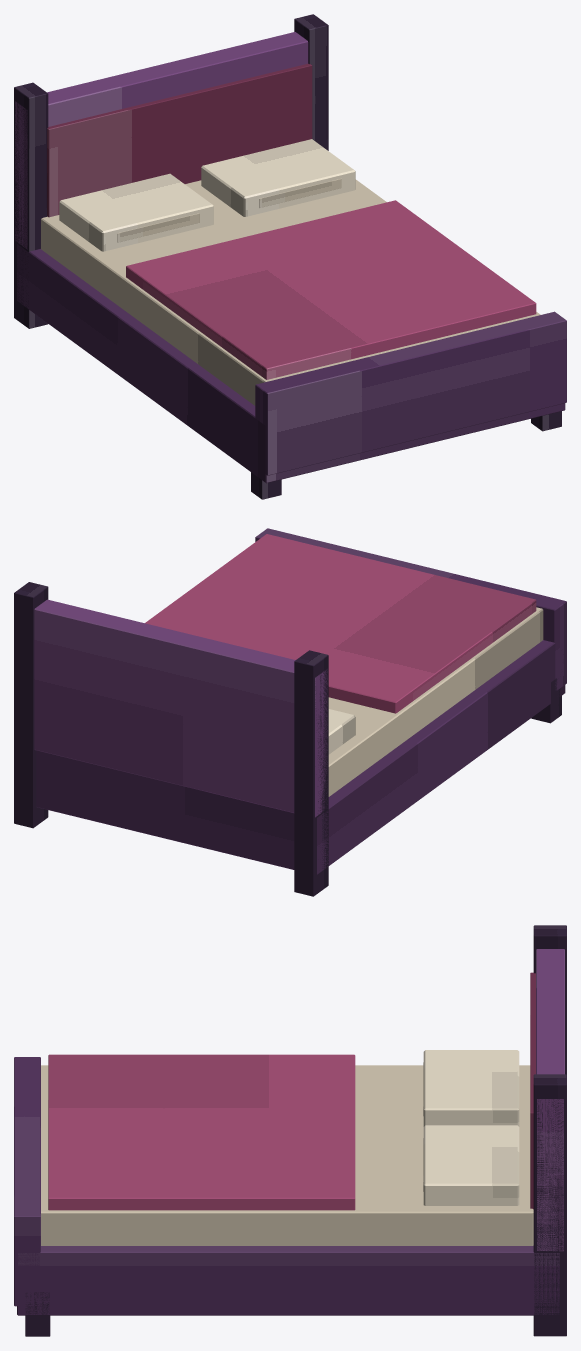
File: double_bed_violet.glb
3 views of the same model, one above another, from view 1: azimuth 30°, elevation 25°; view 2: azimuth 150°, elevation 25°; view 3: azimuth 270°, elevation 25° (orthographic). The views are drawn at different scales.
Parts seen in each view (by area): view 1: Blanket, Footboard, HeadboardInset, BedFrame, Mattress, HeadboardPanel, Pillow_1, Pillow_2, HeadPostL, HeadPostR, PillowBand_1, PillowBand_2; view 2: HeadboardPanel, Blanket, BedFrame, Mattress, HeadPostL, HeadPostR, Footboard, Pillow_1, FootL; view 3: Blanket, BedFrame, Mattress, Pillow_2, HeadboardPanel, HeadPostR, Pillow_1, Footboard, HeadboardInset, HeadPostL, FootR.
Boxes of the visible parts, left/top/right/bottom form: Blanket: left=126, top=200, right=536, bottom=379; Footboard: left=255, top=311, right=566, bottom=475; HeadboardInset: left=47, top=63, right=312, bottom=217; BedFrame: left=17, top=244, right=565, bottom=483; Mattress: left=41, top=179, right=540, bottom=405; HeadboardPanel: left=15, top=32, right=308, bottom=249; Pillow_1: left=59, top=173, right=213, bottom=251; Pillow_2: left=201, top=139, right=355, bottom=216; HeadPostL: left=14, top=82, right=48, bottom=328; HeadPostR: left=294, top=14, right=328, bottom=150; PillowBand_1: left=117, top=213, right=199, bottom=242; PillowBand_2: left=259, top=178, right=341, bottom=207; HeadboardPanel: left=34, top=599, right=327, bottom=817; Blanket: left=145, top=534, right=536, bottom=713; BedFrame: left=36, top=640, right=565, bottom=874; Mattress: left=328, top=607, right=543, bottom=796; HeadPostL: left=294, top=650, right=328, bottom=896; HeadPostR: left=14, top=582, right=48, bottom=828; Footboard: left=255, top=528, right=566, bottom=690; Pillow_1: left=328, top=709, right=355, bottom=754; FootL: left=531, top=678, right=561, bottom=723; Blanket: left=48, top=1054, right=355, bottom=1210; BedFrame: left=17, top=1245, right=559, bottom=1315; Mattress: left=41, top=1065, right=533, bottom=1245; Pillow_2: left=423, top=1125, right=519, bottom=1205; HeadboardPanel: left=536, top=949, right=564, bottom=1251; HeadPostR: left=533, top=1074, right=566, bottom=1336; Pillow_1: left=423, top=1050, right=519, bottom=1126; Footboard: left=14, top=1057, right=40, bottom=1306; HeadboardInset: left=530, top=972, right=535, bottom=1209; HeadPostL: left=533, top=925, right=566, bottom=1074; FootR: left=25, top=1292, right=50, bottom=1336.
Size of the model in its own units: 1.82 by 1.34 by 2.66.
Materials: 1 (1 with a texture image).
